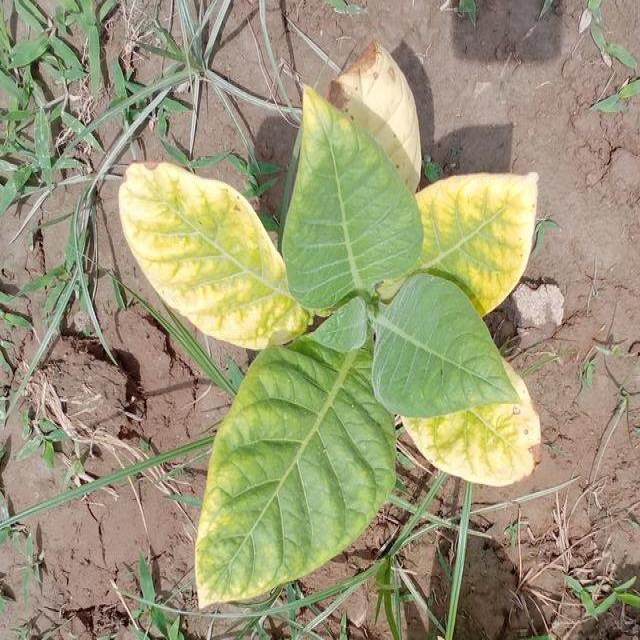crop: (118, 45, 544, 608)
